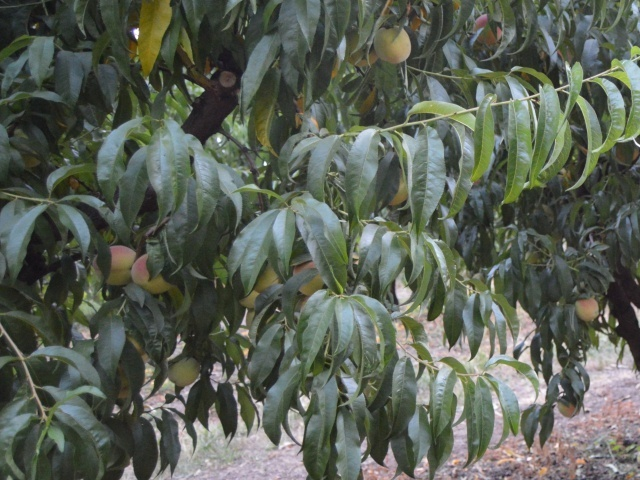peach: (86, 244, 141, 289), (124, 249, 170, 296), (370, 22, 413, 66), (290, 256, 326, 298), (468, 10, 507, 47), (167, 354, 204, 392), (247, 259, 281, 295), (569, 290, 602, 325), (555, 393, 580, 421)
